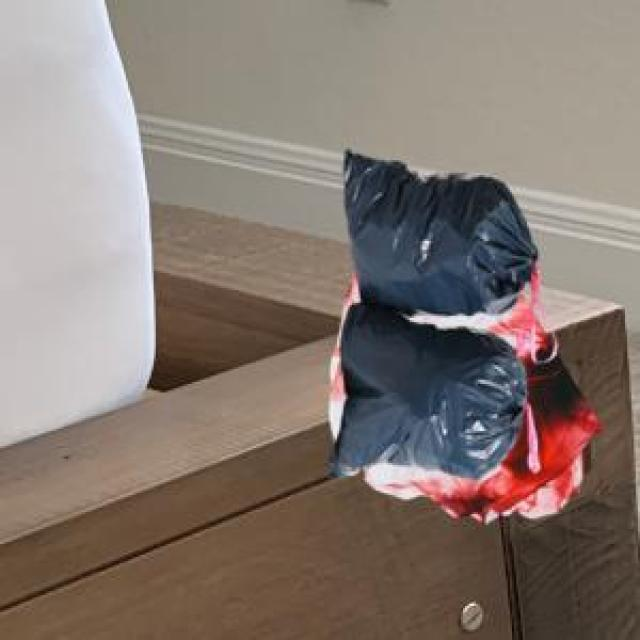miscellaneous trash: (324, 145, 536, 476)
